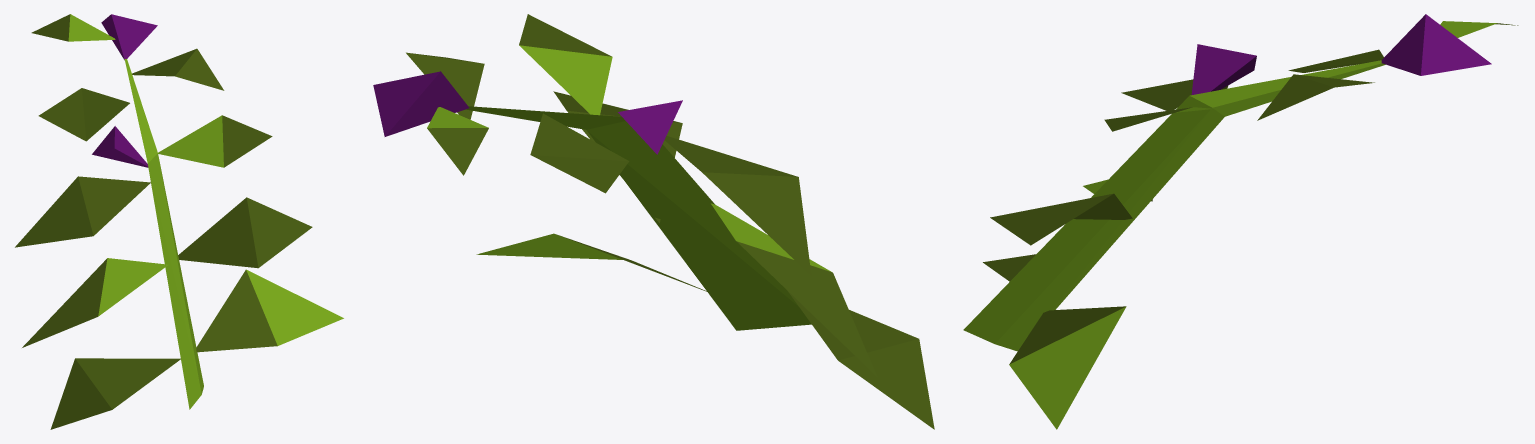
File: Flower_M1_5.fbx
The picture shows the model from 3 angles, left to right: view 1: azimuth 30°, elevation 25°; view 2: azimuth 150°, elevation 25°; view 3: azimuth 270°, elevation 25°; orthographic projection. The views are drawn at different scales.
Visible parts, largest first — view 1: Flower_M1_5; view 2: Flower_M1_5; view 3: Flower_M1_5.
Boxes of the visible parts, x1,y1,x2,y2 form: Flower_M1_5: (15, 14, 343, 429); Flower_M1_5: (373, 14, 934, 429); Flower_M1_5: (963, 14, 1518, 429).
Bounding box in the file's own units: 42.49 × 38.23 × 48.34.
